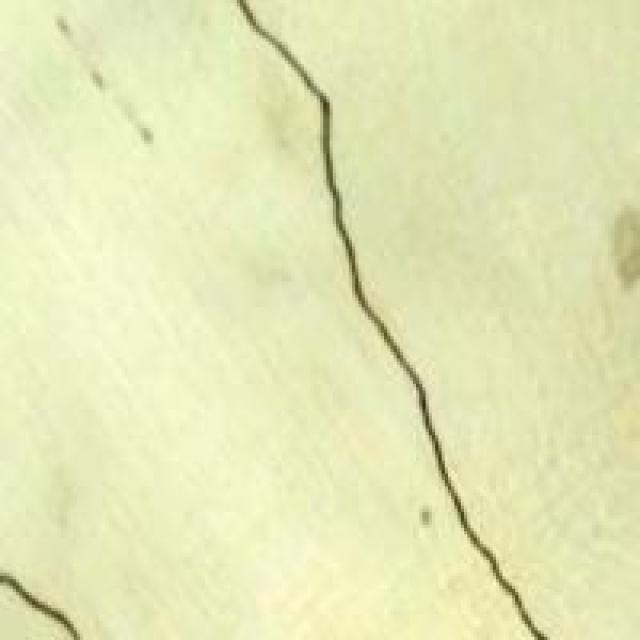crack: (189, 0, 550, 637)
